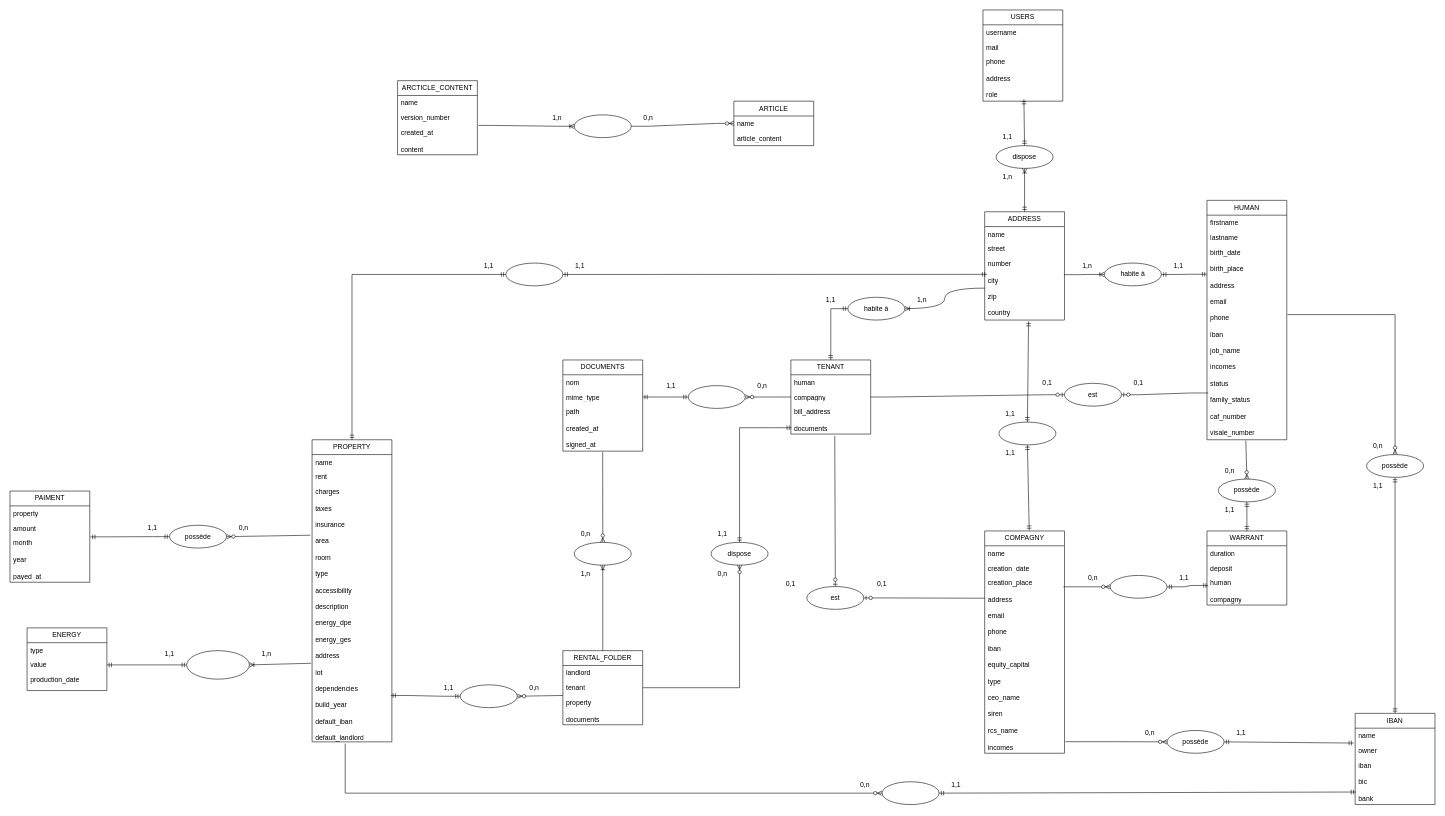
Image size: 1445x816. Some labels were removed from this diagram. Each missing label, with the centre of its shape:
"comporte" belongs at [602,553].
"contient" belongs at [602,126].
"est associer" belongs at [910,793].
"est loué via" belongs at [488,696].
"est situé à" belongs at [1027,433].
"fais l'objet d'une" belongs at [217,664].
"Fournis" belongs at [716,396].
"garantit" belongs at [1138,586].
"Se situe à" belongs at [534,274].
